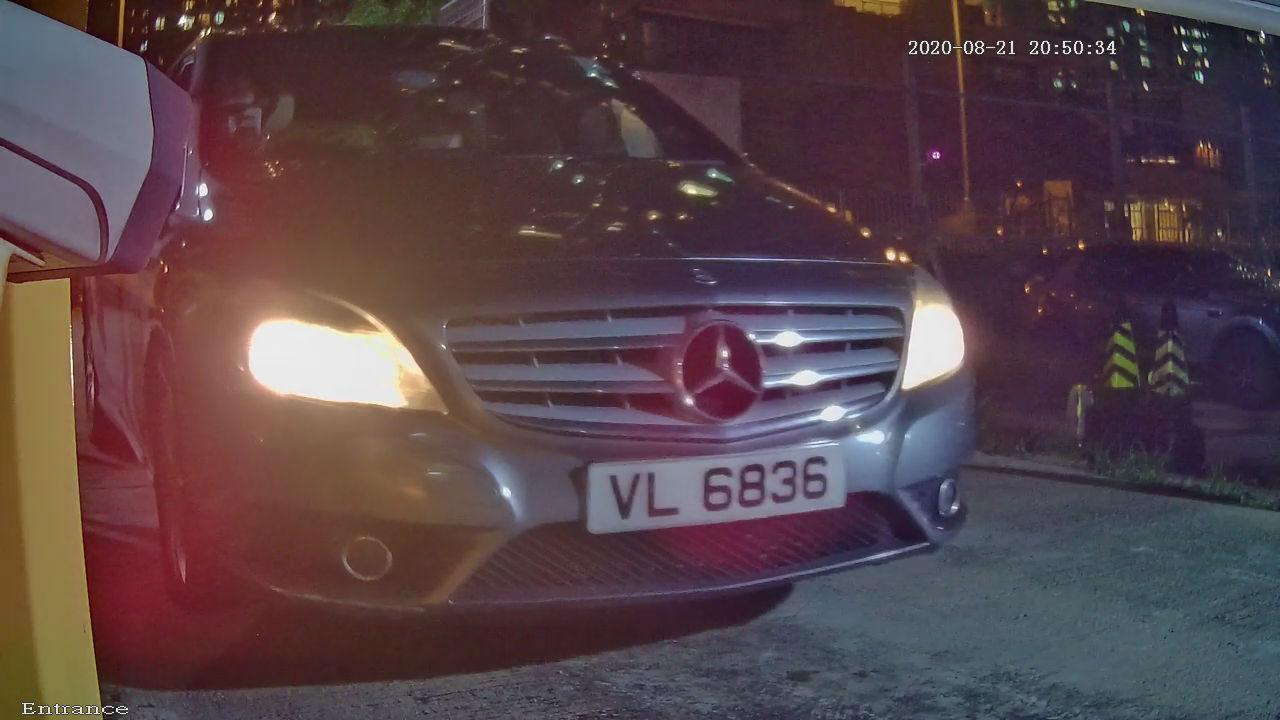Car: (12, 20, 1115, 682)
License Plate: (549, 431, 887, 560)
